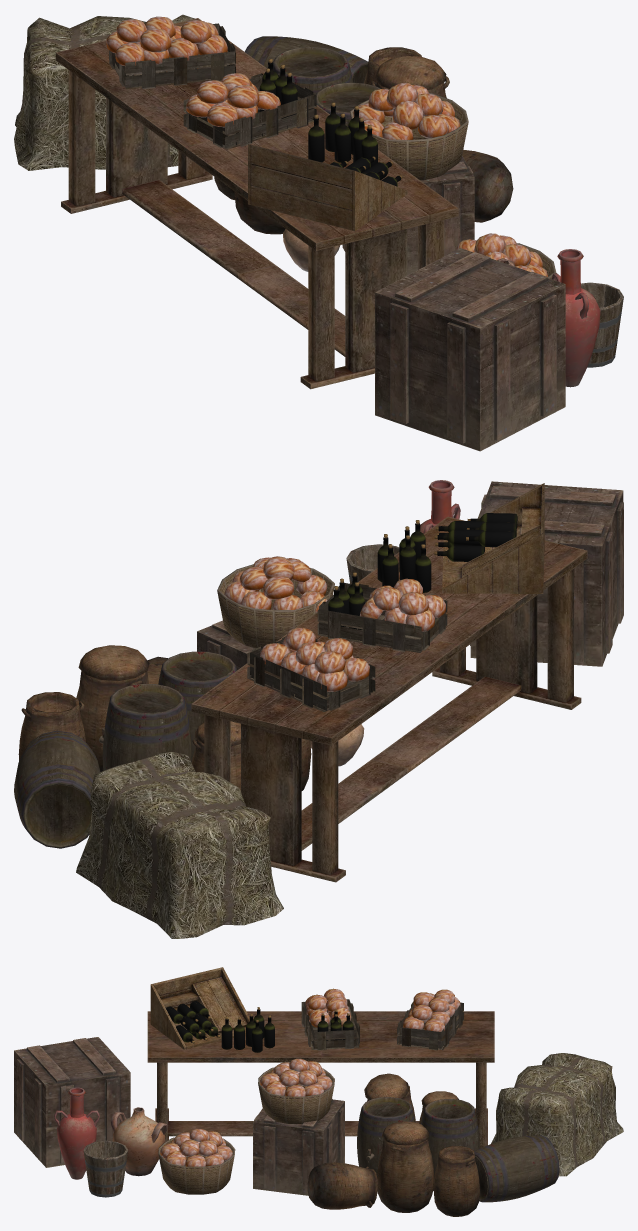
Rendered from NTsho_Stand_C-transformed.glb.
The picture shows the model from 3 angles, top to bottom: view 1: azimuth 30°, elevation 25°; view 2: azimuth 150°, elevation 25°; view 3: azimuth 270°, elevation 25°; orthographic projection. The views are drawn at different scales.
Parts seen in each view (by area): view 1: default; view 2: default; view 3: default.
Part boxes in pixels (<box>): default: <box>14,14,623,451</box>; default: <box>14,480,623,938</box>; default: <box>14,967,623,1216</box>.
Bounding box in the file's own units: 2.04 × 1.17 × 4.59.
Materials: 12 (12 with a texture image).
